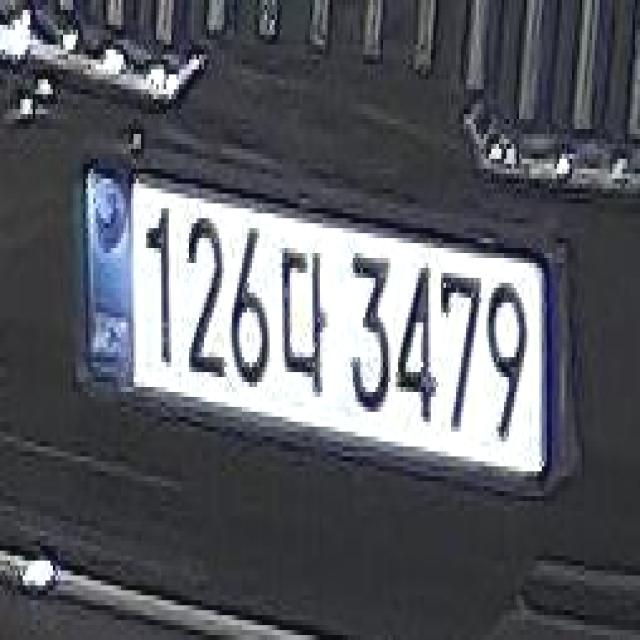illegal_plate: (79, 157, 551, 502)
